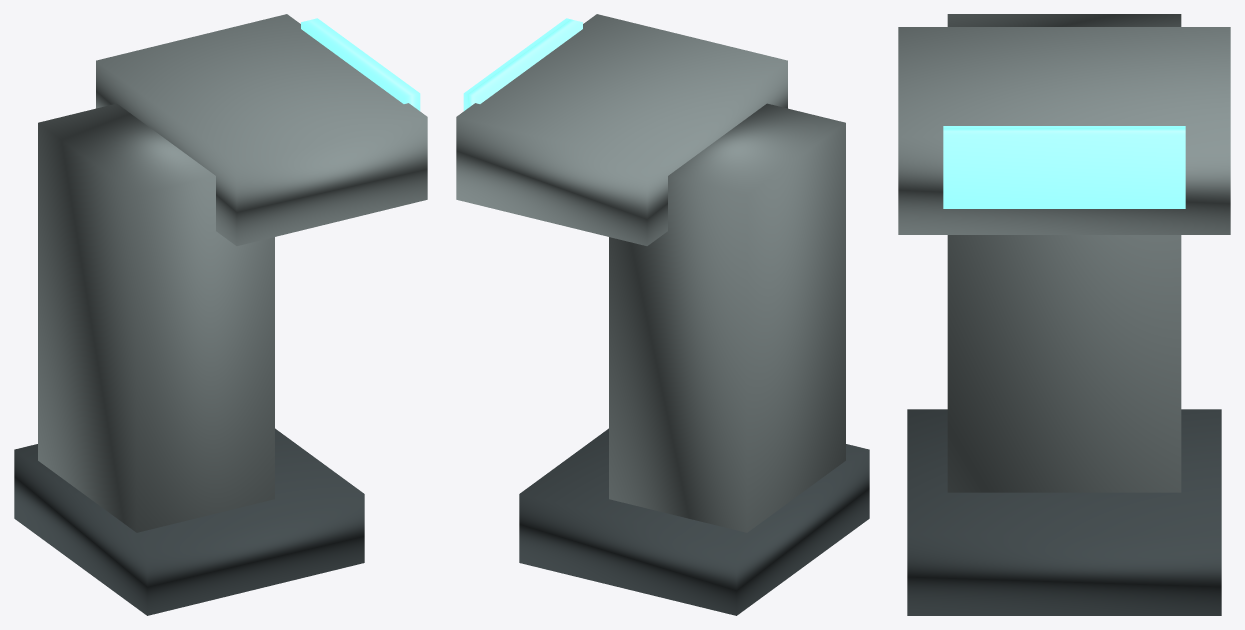
Rendered from interactable-control-terminal-lod2.glb.
The picture shows the model from 3 angles, left to right: view 1: azimuth 30°, elevation 25°; view 2: azimuth 150°, elevation 25°; view 3: azimuth 270°, elevation 25°; orthographic projection. The views are drawn at different scales.
Parts seen in each view (by area): view 1: interactable-control-column, interactable-control-console, interactable-control-base, interactable-control-screen; view 2: interactable-control-column, interactable-control-console, interactable-control-base, interactable-control-screen; view 3: interactable-control-column, interactable-control-console, interactable-control-base, interactable-control-screen.
Boxes of the visible parts, x1=… form: interactable-control-column: x1=38, y1=103, x2=274, y2=532; interactable-control-console: x1=96, y1=14, x2=427, y2=245; interactable-control-base: x1=14, y1=428, x2=364, y2=615; interactable-control-screen: x1=301, y1=18, x2=420, y2=110; interactable-control-column: x1=609, y1=103, x2=845, y2=532; interactable-control-console: x1=456, y1=14, x2=787, y2=245; interactable-control-base: x1=519, y1=428, x2=869, y2=615; interactable-control-screen: x1=463, y1=18, x2=582, y2=110; interactable-control-column: x1=947, y1=14, x2=1181, y2=492; interactable-control-console: x1=898, y1=27, x2=1230, y2=234; interactable-control-base: x1=907, y1=409, x2=1221, y2=615; interactable-control-screen: x1=943, y1=126, x2=1185, y2=208.
Bounding box in the file's own units: 0.875 × 1.28 × 0.74.
